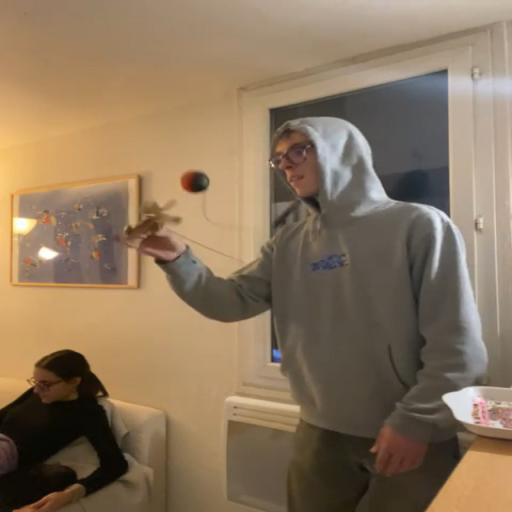kendama_ball: (180, 169, 210, 193)
